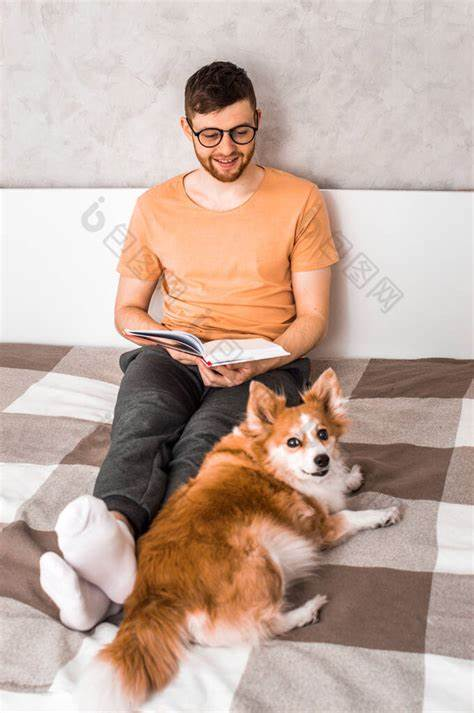大人: (121, 60, 330, 590)
狗: (143, 372, 372, 647)
